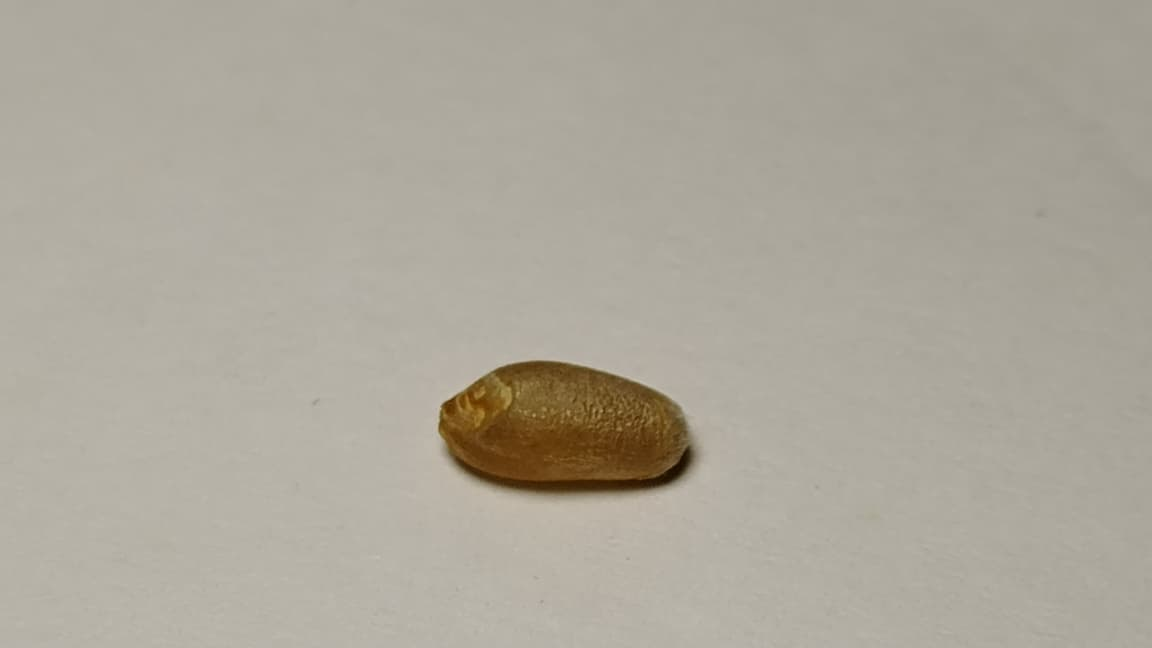healthy: (439, 361, 688, 479)
